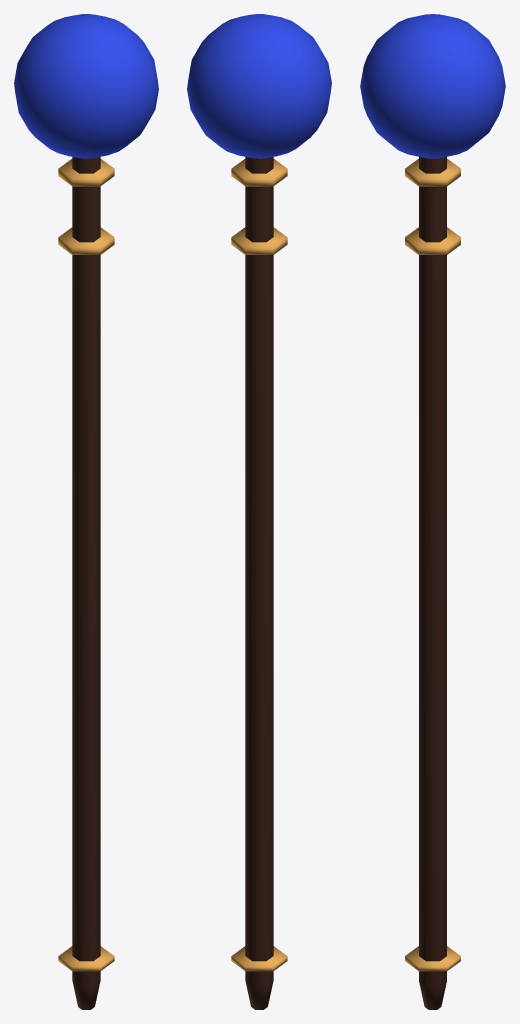
Rendered from Zauberstab.glb.
The picture shows the model from 3 angles, left to right: view 1: azimuth 30°, elevation 25°; view 2: azimuth 150°, elevation 25°; view 3: azimuth 270°, elevation 25°; orthographic projection.
Parts seen in each view (by area): view 1: Stab1; view 2: Stab1; view 3: Stab1.
Part boxes in pixels (box(x1,y1,x2,y2)): Stab1: box(14, 14, 158, 1009); Stab1: box(187, 14, 331, 1009); Stab1: box(360, 14, 505, 1009).
Size of the model in its own units: 0.13 by 0.971 by 0.13.
3 materials, 1 textured.
